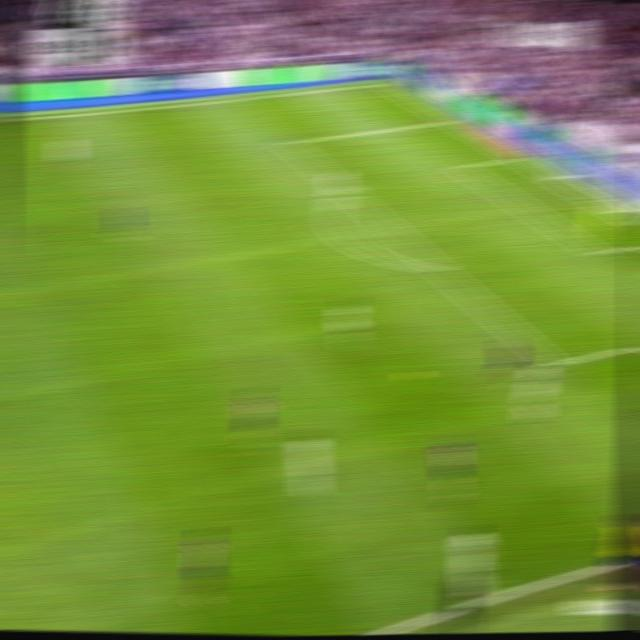bigarea_bottom_inner: (542, 350, 567, 376)
bigarea_top_inner: (277, 134, 298, 151)
bigarea_top_outter: (440, 112, 460, 125)
bottom_arc_area_intersection: (426, 257, 449, 277)
corner: (373, 76, 395, 87)
smallarea_bottom_inner: (588, 242, 610, 261)
smallarea_top_inner: (452, 160, 472, 172)
top_arc_area_intersection: (337, 183, 358, 199)
